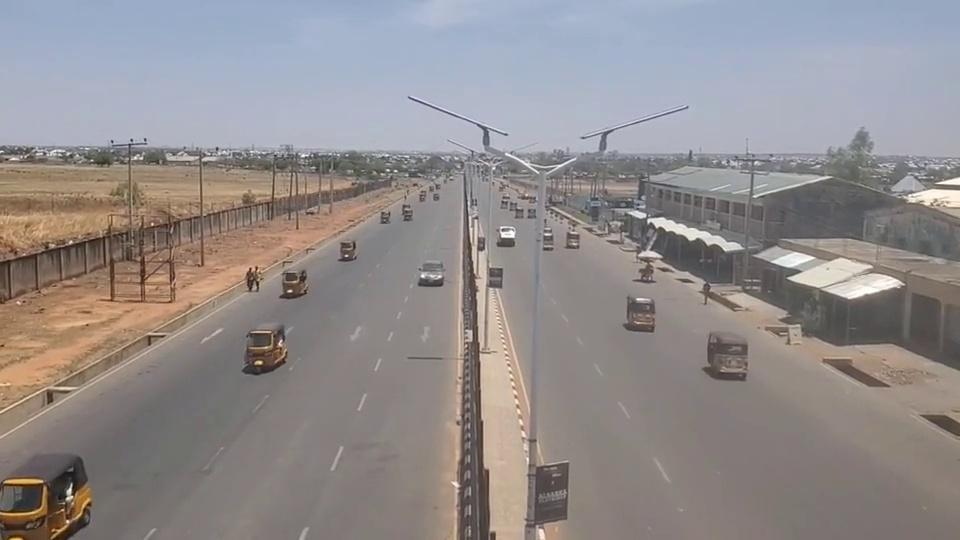keke: (0, 451, 92, 539), (244, 323, 287, 372), (706, 330, 748, 378), (625, 295, 655, 331)
